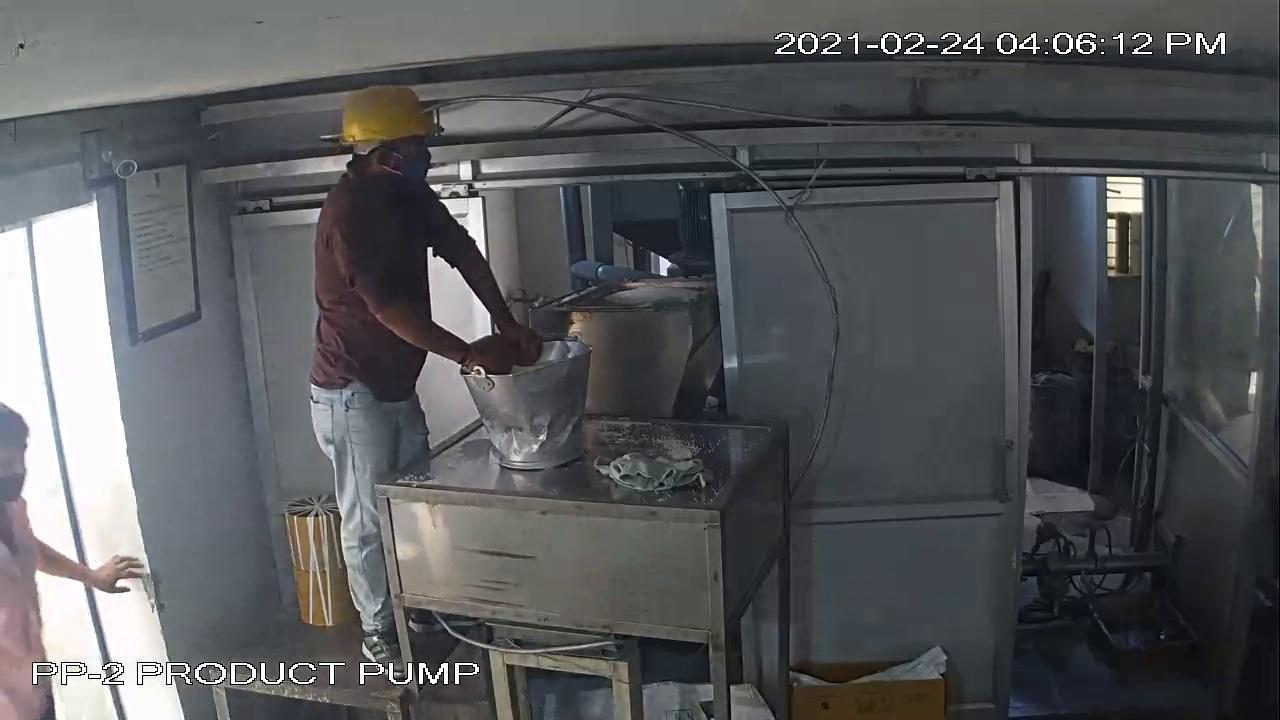helmet: (336, 77, 440, 158)
